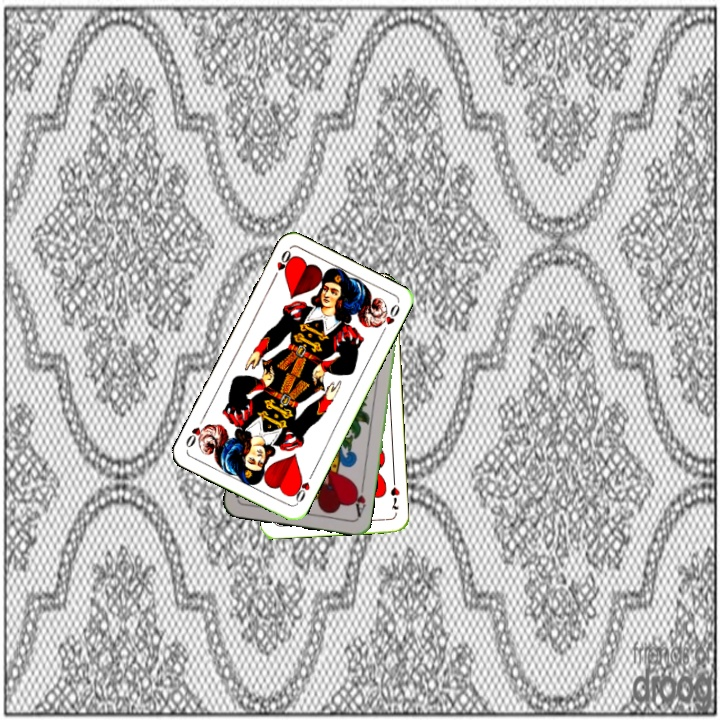H7: (386, 476, 402, 512)
HA: (349, 479, 369, 520)
HO: (288, 469, 316, 506), (268, 246, 295, 283)
